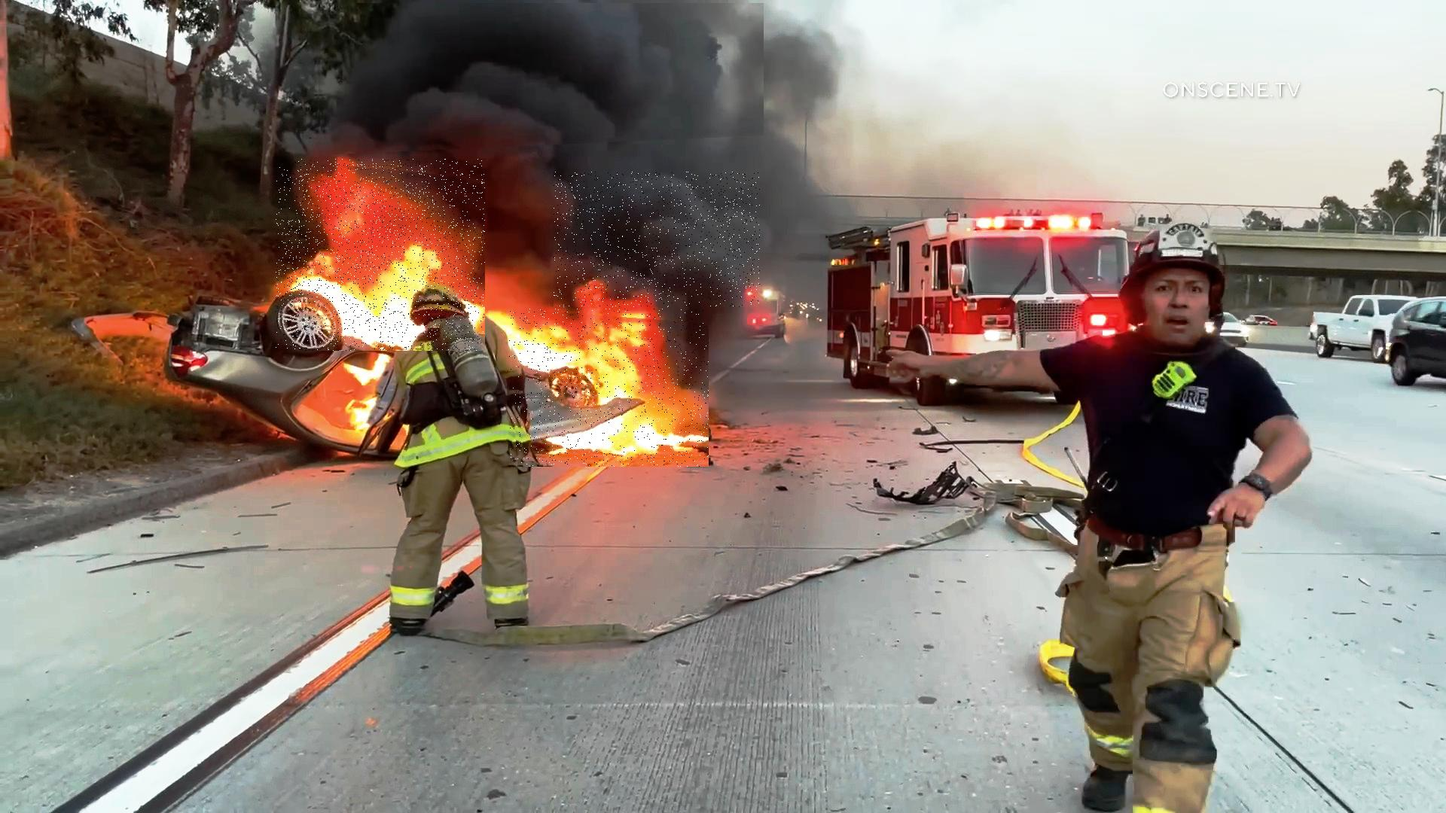fire: (509, 309, 709, 467)
smoke: (314, 3, 764, 155), (276, 159, 485, 351), (554, 172, 761, 308)
